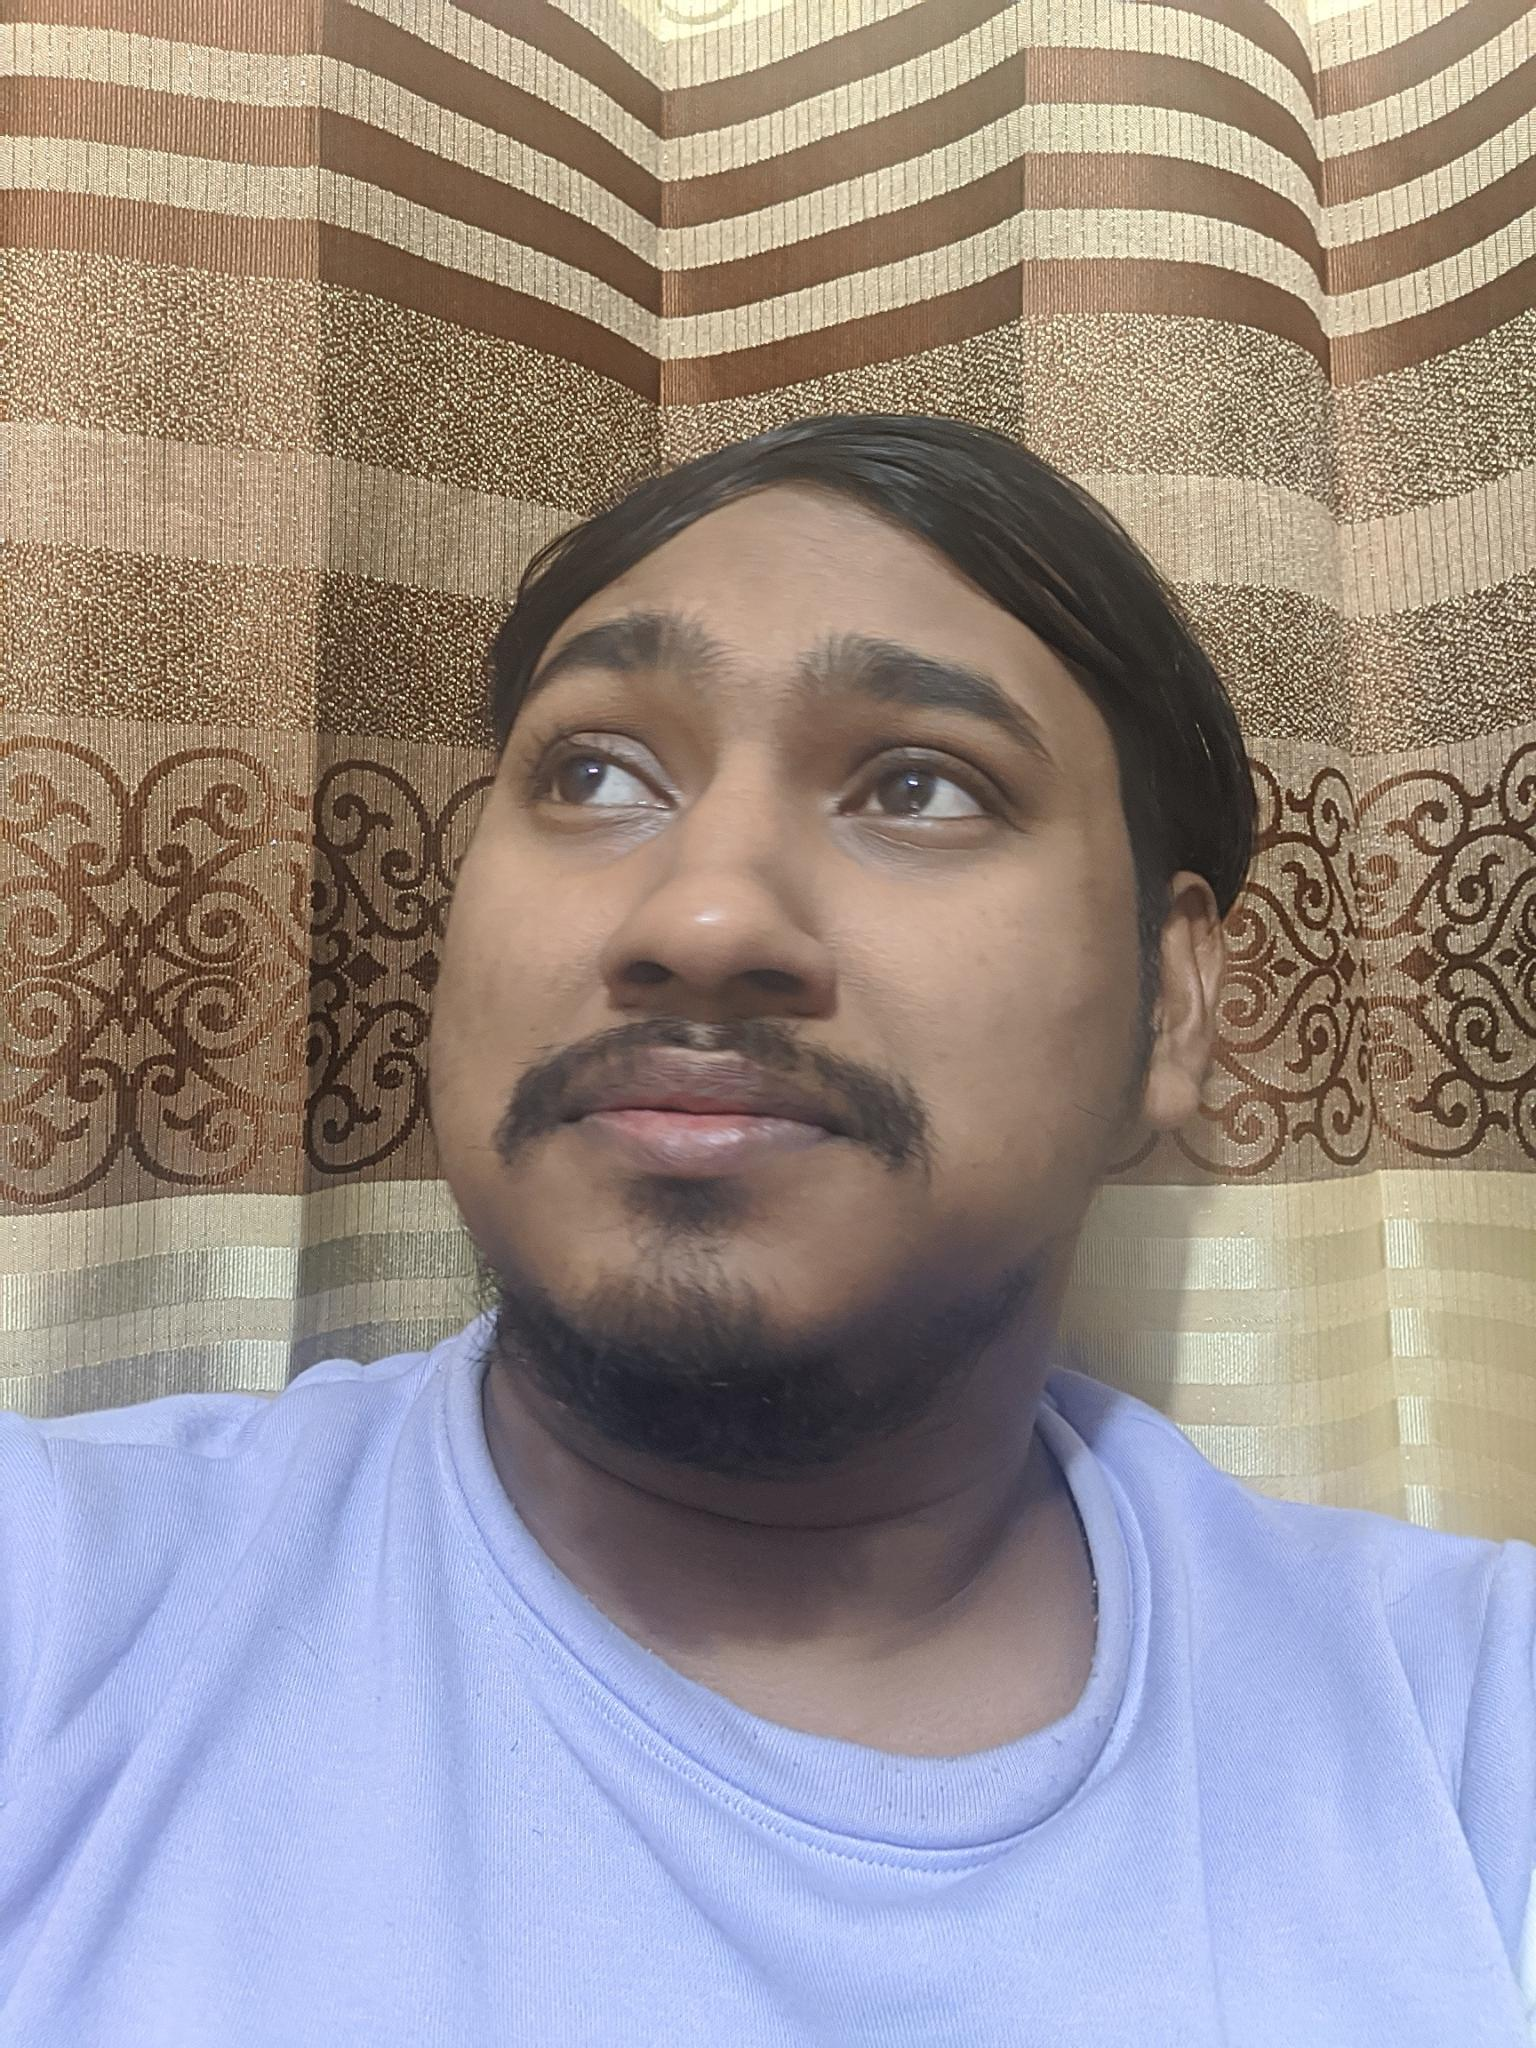Sad: (397, 592, 1120, 1379)
